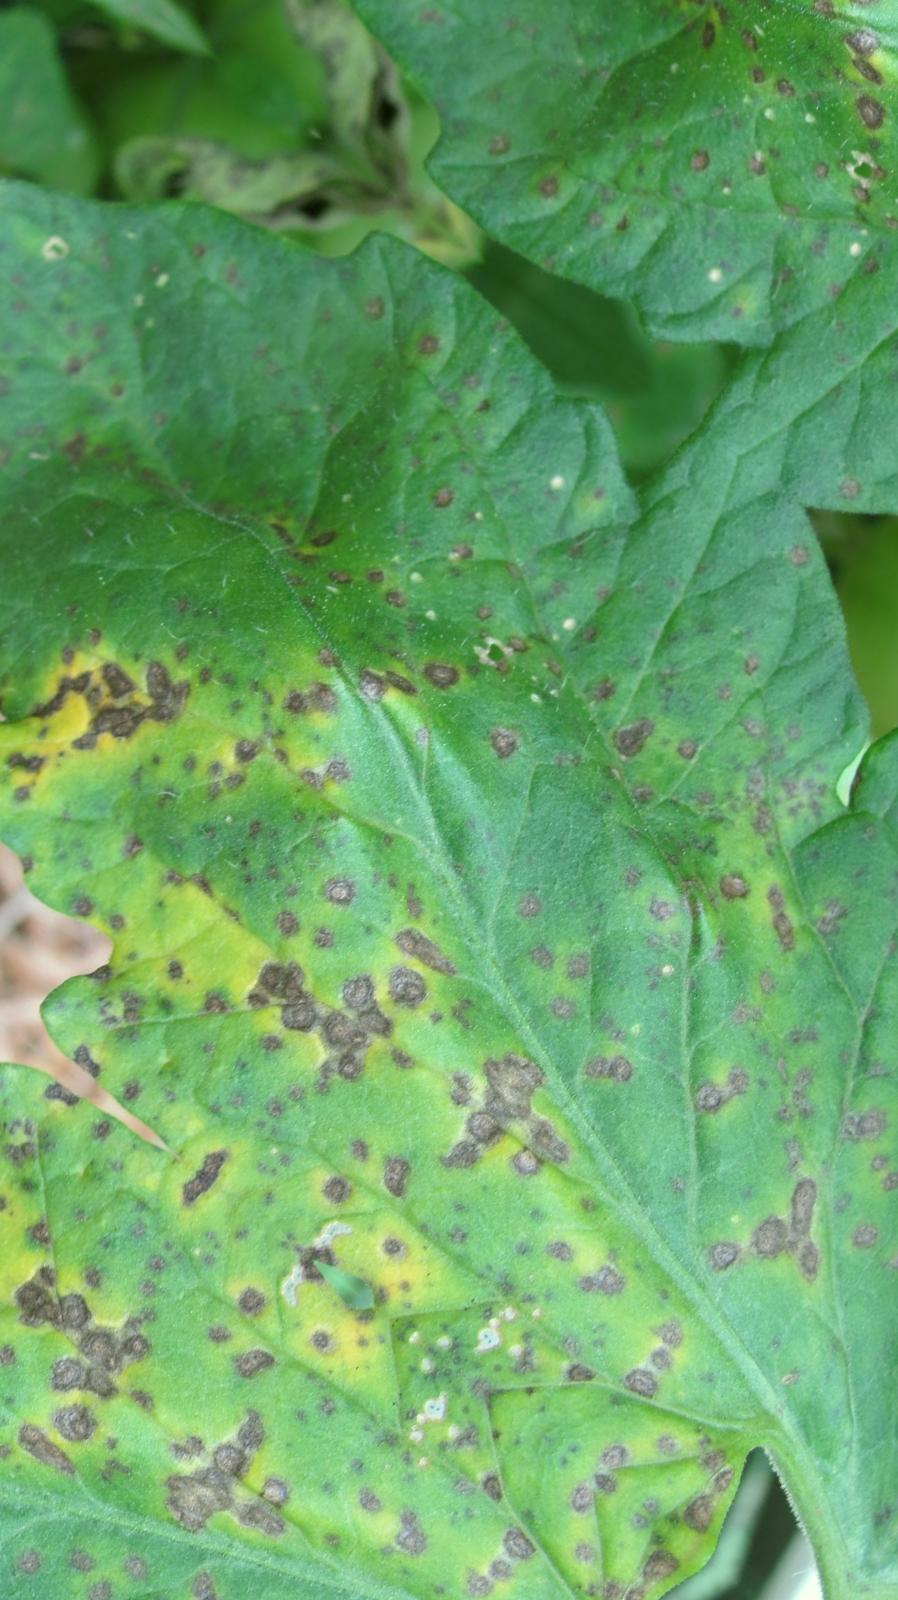Tomato Septoria leaf spot: (0, 11, 898, 1589)
